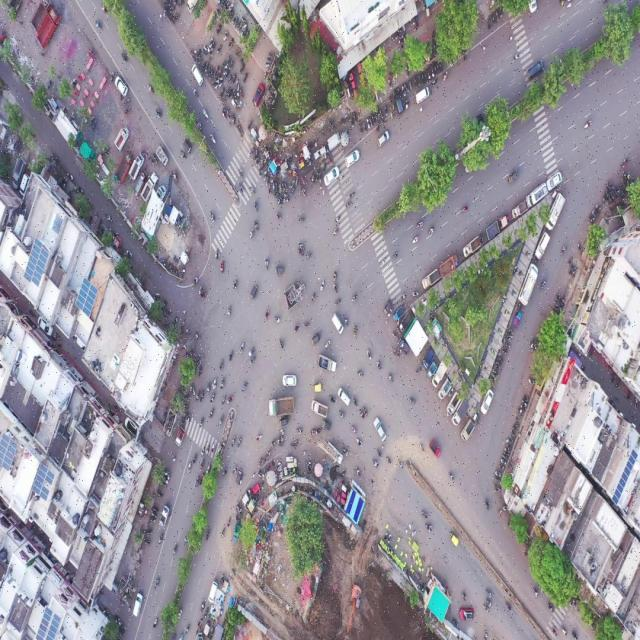3W: (310, 379, 324, 396), (272, 263, 286, 279), (507, 169, 520, 186), (383, 299, 393, 318), (446, 532, 459, 546), (250, 284, 260, 301), (311, 332, 322, 346), (183, 138, 192, 155), (236, 467, 244, 486), (322, 419, 332, 433), (278, 417, 289, 426)
Cars: (534, 232, 550, 260), (527, 56, 544, 80), (372, 416, 386, 443), (481, 388, 494, 417), (336, 384, 351, 409), (331, 310, 344, 336), (546, 171, 562, 191), (323, 167, 340, 185), (394, 87, 404, 117), (133, 591, 143, 620), (344, 150, 360, 168), (190, 65, 203, 86), (282, 372, 298, 389), (458, 606, 475, 622), (252, 84, 264, 106), (115, 76, 128, 96), (377, 130, 390, 149), (416, 87, 430, 103), (208, 578, 217, 602)
LCV: (518, 263, 538, 305), (546, 192, 566, 232), (526, 180, 547, 208), (142, 174, 158, 203), (439, 254, 458, 278), (453, 399, 468, 428), (463, 236, 482, 258), (130, 151, 144, 180), (422, 269, 441, 289), (114, 126, 128, 153), (459, 420, 476, 442), (316, 356, 339, 372), (311, 399, 330, 417), (446, 393, 461, 415), (428, 437, 442, 458), (397, 314, 411, 335), (159, 504, 170, 530), (438, 378, 451, 400), (326, 132, 341, 151), (511, 200, 527, 217), (156, 144, 168, 166), (422, 347, 434, 369), (398, 337, 411, 356), (511, 309, 522, 329), (393, 305, 405, 322), (175, 427, 185, 446), (427, 362, 437, 378)
M2W: (582, 116, 594, 132), (539, 275, 548, 294), (189, 87, 202, 99), (153, 574, 162, 590), (546, 600, 556, 614), (458, 589, 468, 602), (218, 357, 226, 373), (198, 597, 206, 613), (483, 496, 491, 512), (172, 540, 179, 558), (550, 624, 559, 638), (390, 251, 401, 262), (237, 340, 245, 355), (531, 585, 539, 600), (410, 233, 420, 245), (146, 83, 154, 98), (512, 51, 522, 63), (272, 313, 281, 326), (94, 19, 103, 32), (236, 167, 246, 178), (153, 615, 159, 633), (424, 522, 433, 534), (323, 337, 332, 349), (371, 457, 380, 469), (504, 603, 513, 615), (199, 415, 206, 430), (218, 527, 226, 540), (208, 392, 216, 405), (208, 406, 216, 419), (376, 445, 384, 458), (408, 395, 416, 408), (576, 242, 584, 255), (410, 288, 420, 298), (332, 298, 342, 308), (350, 293, 359, 304), (228, 349, 235, 363), (248, 228, 255, 242), (352, 325, 359, 339), (204, 526, 210, 542), (249, 355, 257, 367), (226, 393, 234, 405), (421, 508, 429, 520), (560, 624, 568, 636), (331, 282, 339, 294), (178, 148, 186, 160), (560, 244, 568, 256), (195, 120, 203, 132), (248, 345, 255, 358), (335, 212, 342, 225), (210, 132, 217, 145), (108, 71, 115, 84), (329, 393, 336, 406), (344, 315, 351, 328), (397, 457, 404, 470), (400, 290, 407, 303), (220, 375, 226, 390), (214, 245, 220, 260), (378, 256, 387, 266), (386, 452, 392, 467), (566, 269, 575, 279), (427, 226, 435, 237), (365, 349, 373, 360), (253, 198, 258, 215), (185, 622, 192, 634), (200, 443, 206, 457), (211, 377, 217, 391), (226, 303, 232, 317), (219, 259, 225, 273), (254, 218, 260, 232), (264, 306, 270, 320), (177, 608, 184, 620), (571, 628, 578, 640), (331, 268, 337, 282), (303, 319, 310, 331), (237, 182, 244, 194), (121, 52, 128, 64), (194, 474, 200, 488), (418, 443, 425, 455), (355, 464, 361, 478), (211, 38, 217, 52), (486, 588, 494, 598), (494, 468, 502, 478), (461, 204, 469, 214), (350, 424, 358, 434), (357, 368, 365, 378), (202, 109, 210, 119), (222, 466, 228, 479), (209, 210, 215, 223), (242, 380, 248, 393), (186, 461, 192, 474), (199, 457, 205, 470), (158, 532, 164, 545), (222, 393, 228, 406), (199, 390, 205, 403), (319, 279, 325, 292), (294, 321, 300, 334), (190, 384, 196, 397), (234, 46, 240, 59), (231, 278, 238, 289), (297, 248, 304, 259), (124, 104, 131, 115), (376, 360, 383, 371), (363, 400, 368, 415), (206, 464, 212, 476), (236, 435, 242, 447), (230, 435, 236, 447), (218, 414, 224, 426), (255, 433, 263, 442), (415, 221, 424, 229), (333, 227, 341, 236), (310, 291, 316, 303), (298, 216, 306, 225), (248, 186, 256, 195), (342, 447, 350, 456), (356, 436, 362, 448), (248, 146, 254, 158), (259, 161, 265, 173), (526, 377, 535, 385), (92, 119, 98, 131), (210, 440, 215, 454), (205, 442, 210, 456), (264, 258, 269, 272), (486, 598, 493, 608), (347, 191, 357, 198), (304, 252, 314, 259), (276, 212, 283, 222), (200, 470, 205, 484), (296, 425, 303, 435), (216, 21, 221, 35), (490, 12, 495, 26), (232, 464, 238, 475), (448, 471, 454, 482), (279, 338, 285, 349), (239, 63, 245, 74), (219, 88, 225, 99), (246, 120, 252, 131), (326, 153, 332, 164), (431, 78, 437, 89), (223, 29, 228, 42), (228, 36, 233, 49), (208, 36, 213, 49), (290, 185, 295, 198), (350, 116, 355, 129), (554, 292, 559, 305), (298, 242, 306, 250), (143, 538, 151, 546), (494, 486, 502, 494), (154, 109, 161, 118), (157, 490, 164, 499), (227, 515, 232, 527), (482, 603, 488, 613), (353, 395, 358, 407), (387, 372, 393, 382), (227, 54, 232, 66), (210, 68, 215, 80), (214, 65, 219, 77), (214, 80, 219, 92), (358, 123, 363, 135), (387, 78, 392, 90), (89, 116, 95, 126), (346, 200, 353, 208), (232, 112, 236, 126), (379, 106, 383, 120), (384, 104, 388, 118), (487, 18, 491, 32), (495, 8, 499, 22), (503, 341, 510, 349), (242, 71, 247, 82), (339, 408, 345, 417), (415, 367, 421, 376), (300, 176, 306, 185), (567, 256, 573, 265), (181, 412, 185, 425), (266, 175, 270, 188), (272, 180, 276, 193), (278, 181, 282, 194), (421, 73, 425, 86), (480, 231, 484, 244), (205, 62, 210, 72), (145, 529, 152, 536), (498, 464, 505, 471), (553, 306, 560, 313), (193, 452, 197, 464), (124, 96, 130, 104), (206, 382, 210, 394), (198, 366, 202, 378), (240, 87, 244, 99), (217, 43, 221, 55), (290, 178, 294, 190), (314, 170, 318, 182), (376, 105, 380, 117), (402, 85, 406, 97), (413, 76, 417, 88), (434, 66, 438, 78), (494, 478, 502, 484), (520, 399, 528, 405), (359, 409, 364, 418), (513, 422, 518, 431), (236, 80, 240, 91), (228, 73, 232, 84), (202, 60, 206, 71), (225, 85, 229, 96), (263, 170, 267, 181), (284, 182, 288, 193), (322, 161, 326, 172), (439, 62, 443, 73), (258, 473, 265, 479), (202, 49, 208, 56), (275, 181, 278, 195), (363, 121, 366, 135), (405, 98, 408, 112), (500, 349, 507, 355), (497, 354, 504, 360), (494, 365, 500, 372), (499, 459, 506, 465), (570, 265, 576, 272), (520, 404, 527, 410), (510, 430, 516, 437), (232, 73, 236, 83), (228, 88, 232, 98), (256, 158, 260, 168), (404, 82, 408, 92), (197, 390, 200, 403), (319, 170, 322, 183), (353, 112, 356, 125), (230, 59, 233, 71), (219, 77, 223, 86), (369, 116, 372, 128), (371, 115, 375, 124), (409, 78, 412, 90), (418, 75, 421, 87), (425, 73, 428, 85), (150, 512, 157, 517), (504, 447, 511, 452), (282, 182, 285, 193), (222, 60, 226, 68), (204, 46, 210, 51), (436, 64, 439, 74), (502, 454, 507, 460), (377, 120, 379, 132)
Truck: (35, 6, 57, 46), (268, 396, 296, 418), (116, 151, 132, 186)
